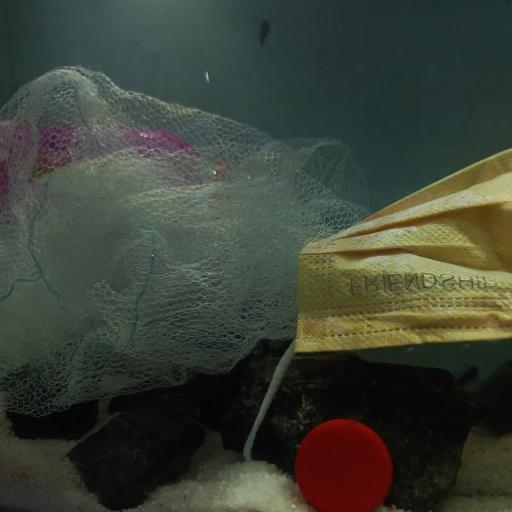bottle_cap: (294, 415, 394, 512)
mask: (284, 140, 512, 360)
net: (0, 59, 366, 402)
